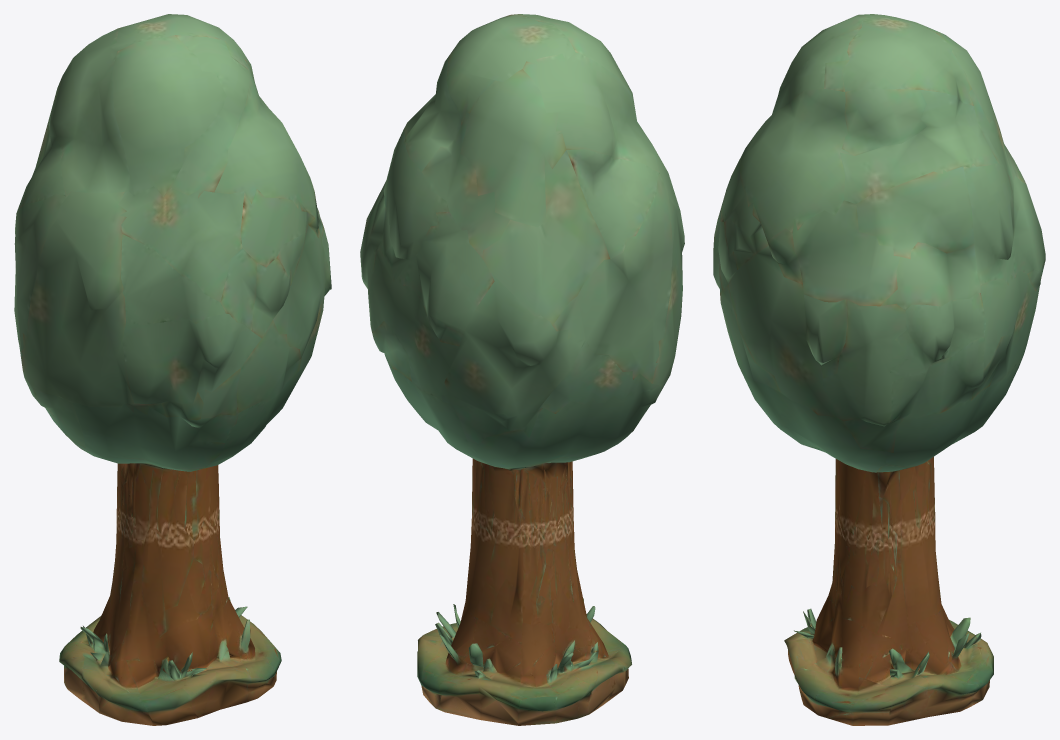
Rendered from tree-tall.glb.
3 views of the same model, side by side, from view 1: azimuth 30°, elevation 25°; view 2: azimuth 150°, elevation 25°; view 3: azimuth 270°, elevation 25° (orthographic).
Size of the model in its own units: 0.8737 by 1.9 by 0.8765.
Materials: 1 (1 with a texture image).
